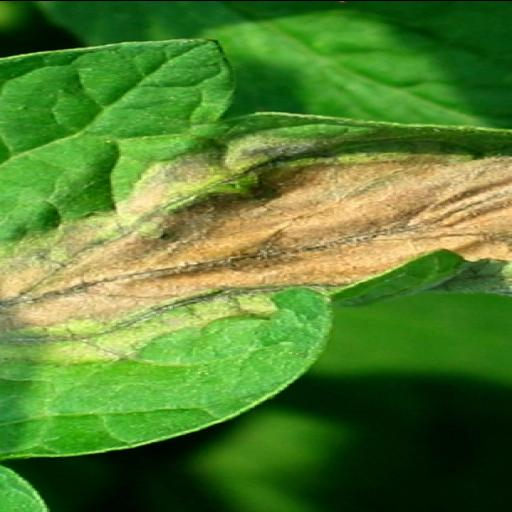disease_tomato: (7, 16, 507, 461)
